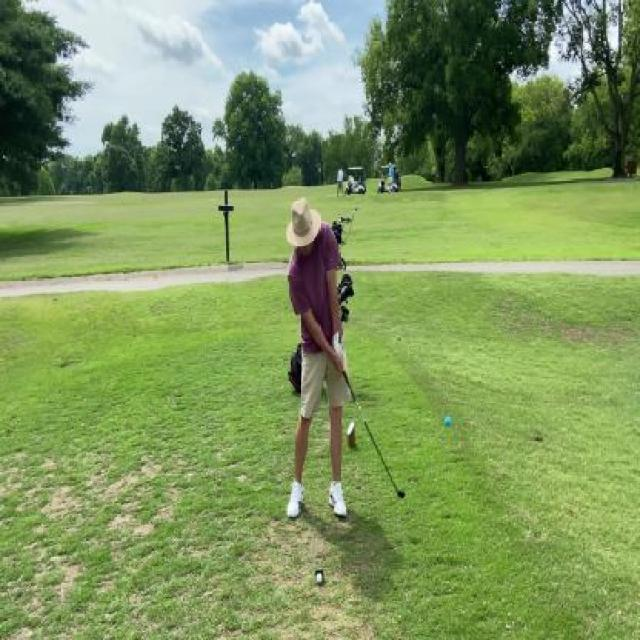club head: (394, 486, 406, 500)
